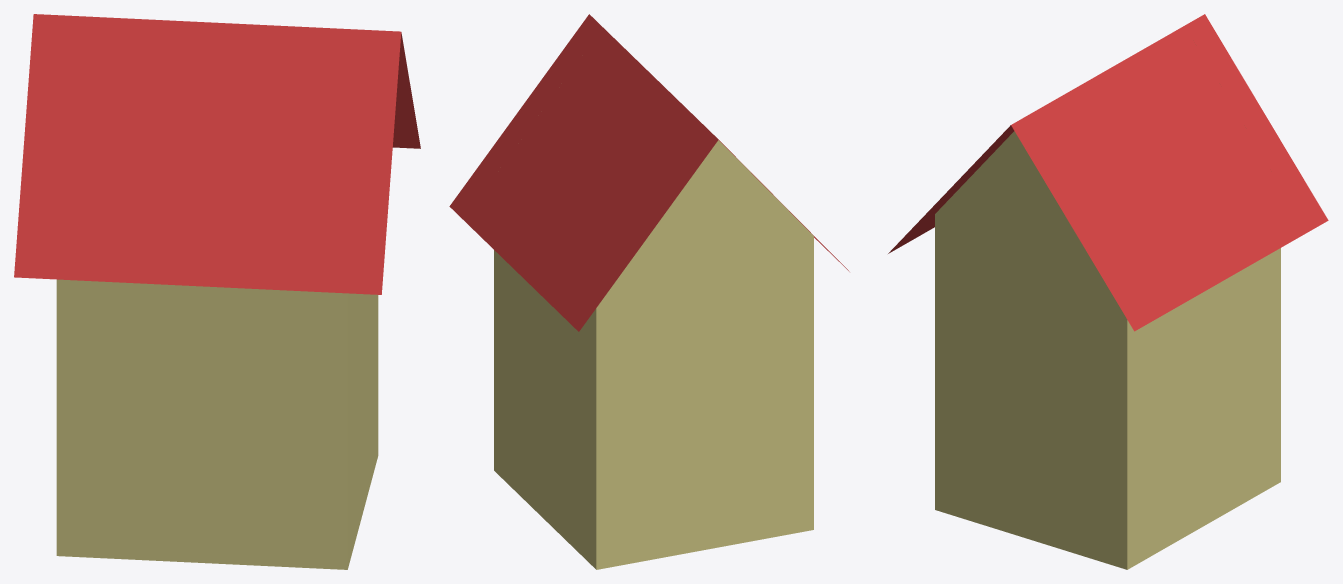
3 renders of one model, left to right at view 1: azimuth 30°, elevation 25°; view 2: azimuth 150°, elevation 25°; view 3: azimuth 270°, elevation 25°, orthographic. The views are drawn at different scales.
Parts seen in each view (by area): view 1: group_5, group_3, group_4; view 2: group_5, group_3, group_4; view 3: group_5, group_3, group_4.
Boxes of the visible parts, x1,y1,x2,y2 form: group_5: (56,279,378,569); group_3: (17,14,420,294); group_4: (14,15,401,294); group_5: (494,140,813,569); group_3: (494,27,849,306); group_4: (449,14,760,331); group_5: (935,131,1280,569); group_3: (888,25,1280,284); group_4: (994,14,1328,331).
Size of the model in its own units: 13.05 by 12.93 by 13.79.
